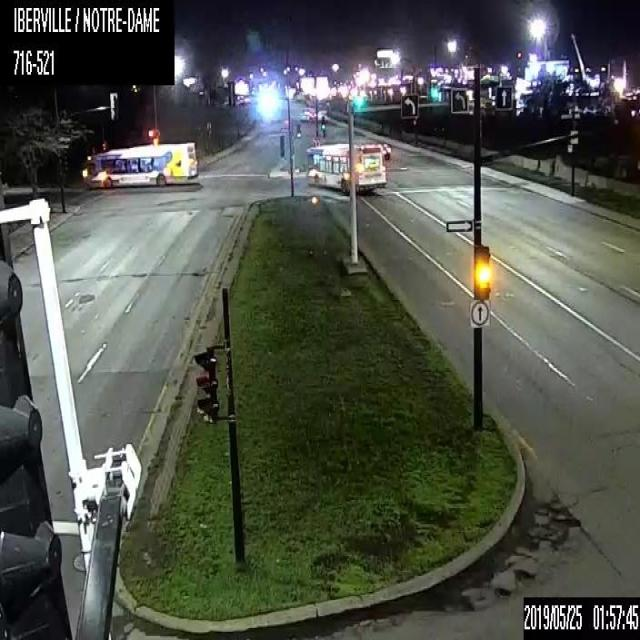bus: (84, 139, 197, 188), (304, 141, 386, 195)
vehicle: (379, 141, 390, 159)
